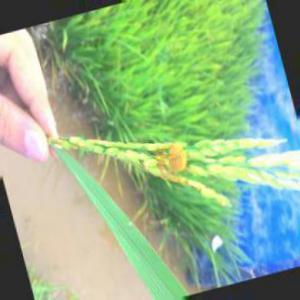Leaf_Scald: (166, 144, 191, 180)
